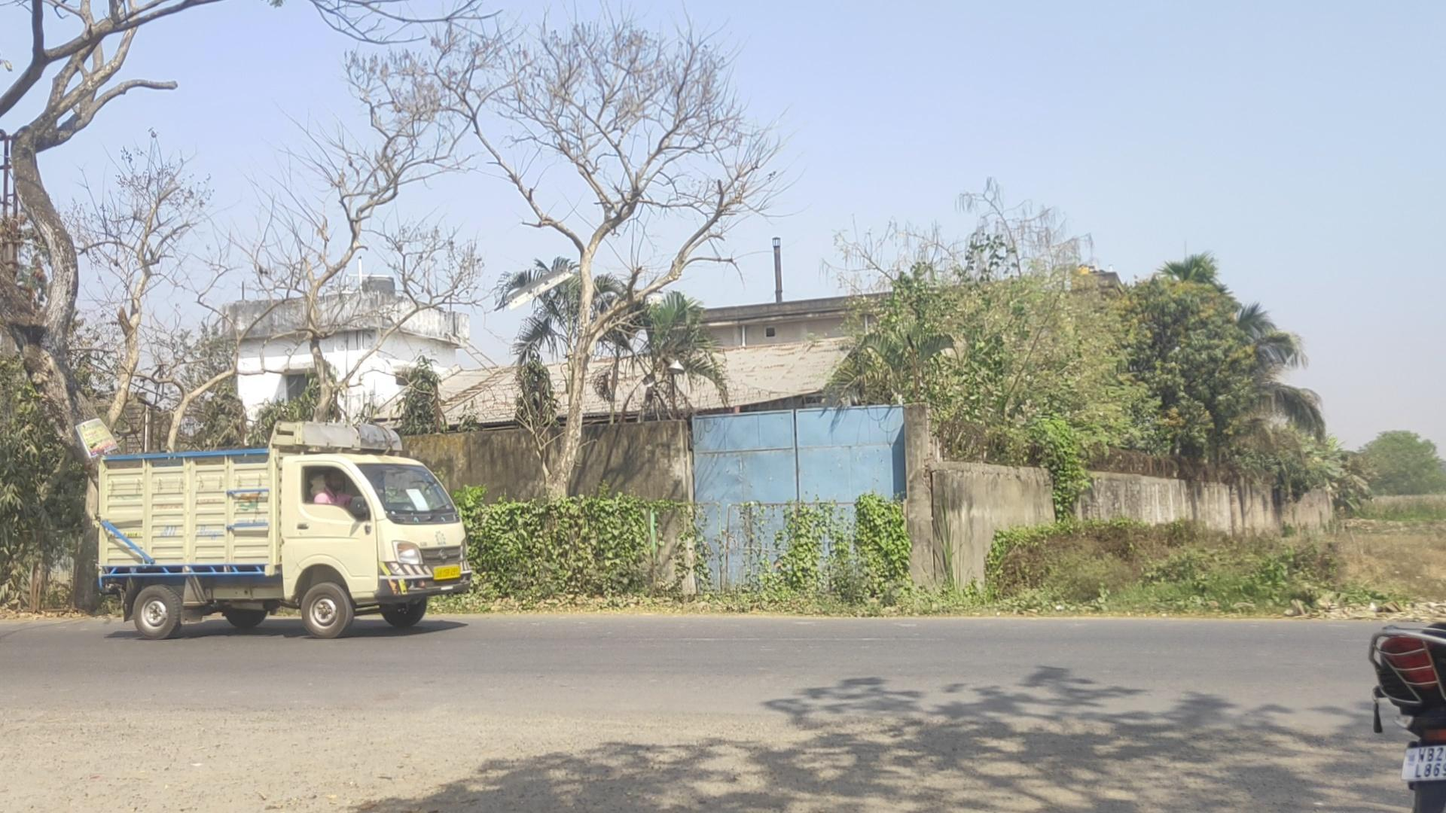van: (96, 420, 472, 640)
